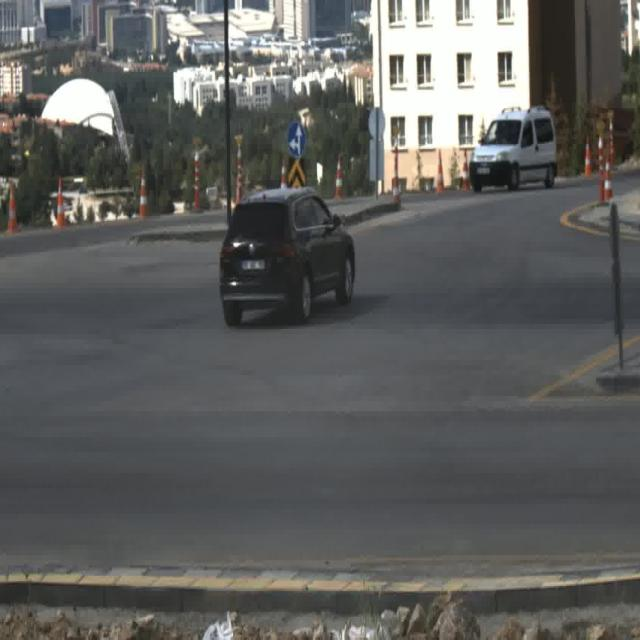Car: (218, 189, 354, 330), (470, 110, 555, 196)
